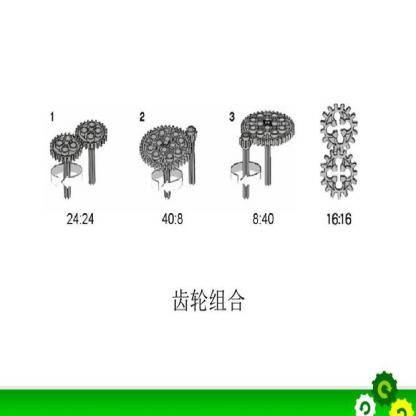FOD: (240, 108, 295, 148)
